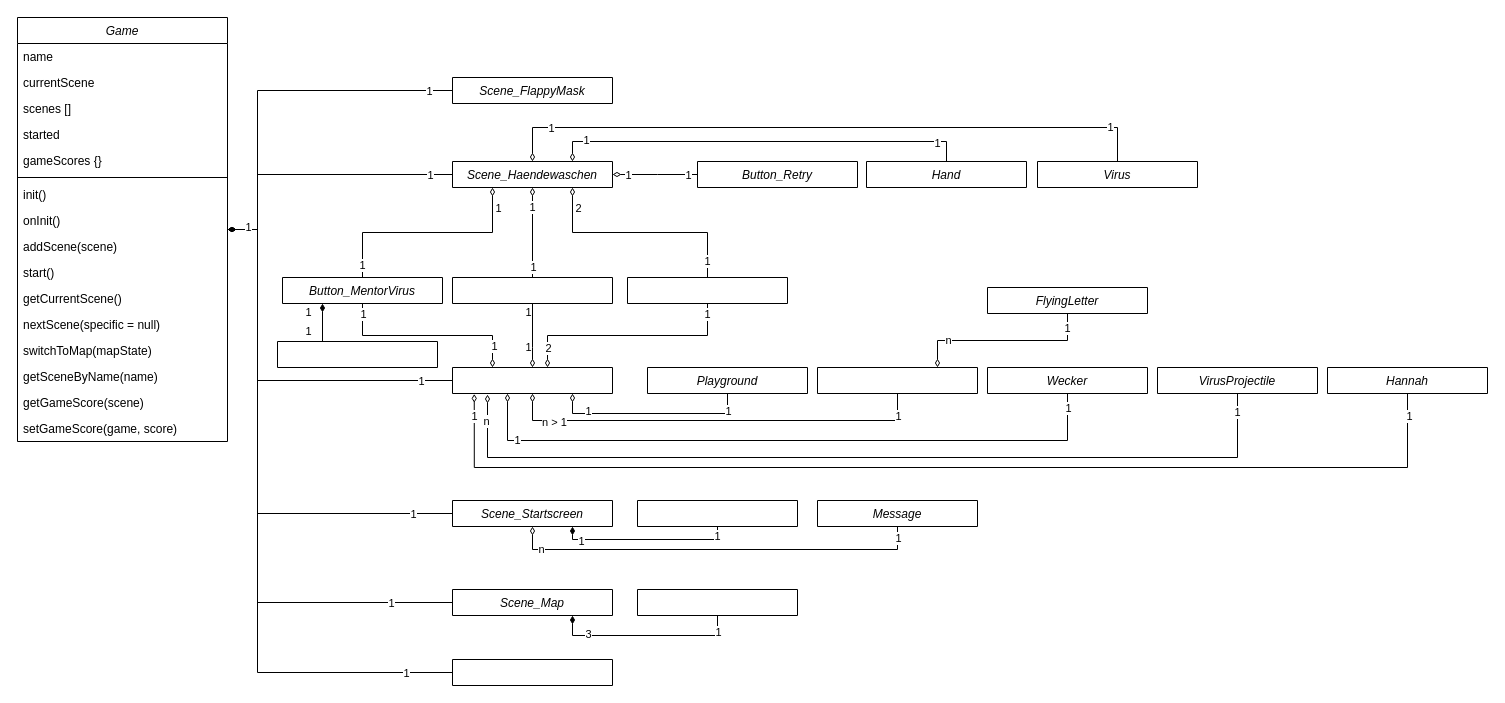
The diagram is 1505 pixels wide and 703 high, and some of its shapes have lost their labels. Each missing label, with the centre of its shape:
"Button_Map" goes at point 717,602.
"Button_MentorVirusText" goes at point 357,354.
"Button_Start" goes at point 717,513.
"Button_Weiter" goes at point 532,290.
"People" goes at point 897,380.
"Scene_Endscreen" goes at point 532,672.
"Scene_PeopleBouncy" goes at point 532,380.
"Sign" goes at point 707,290.
